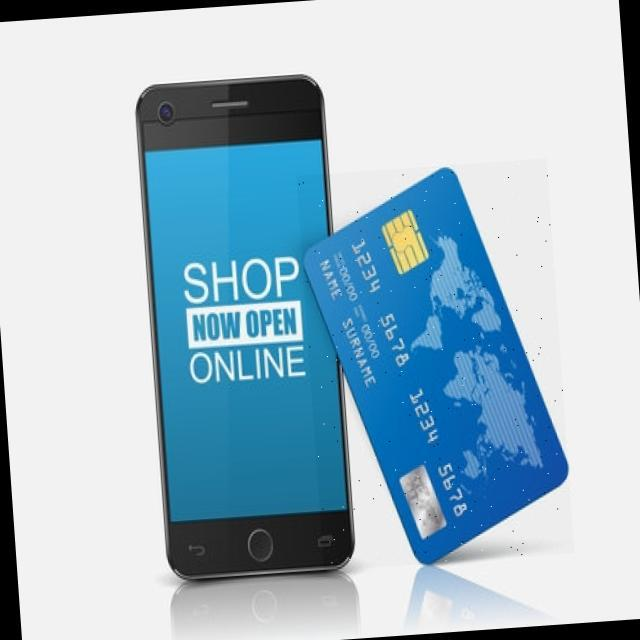payment_card: (302, 163, 570, 564)
